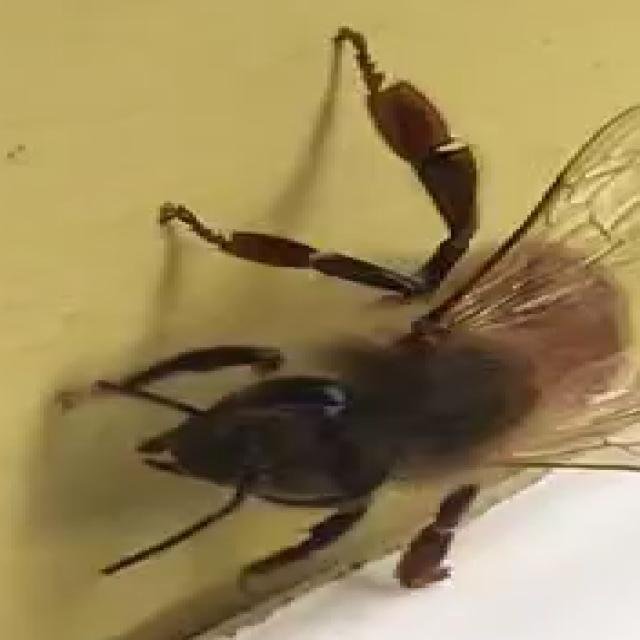honeybee: (48, 60, 616, 614)
